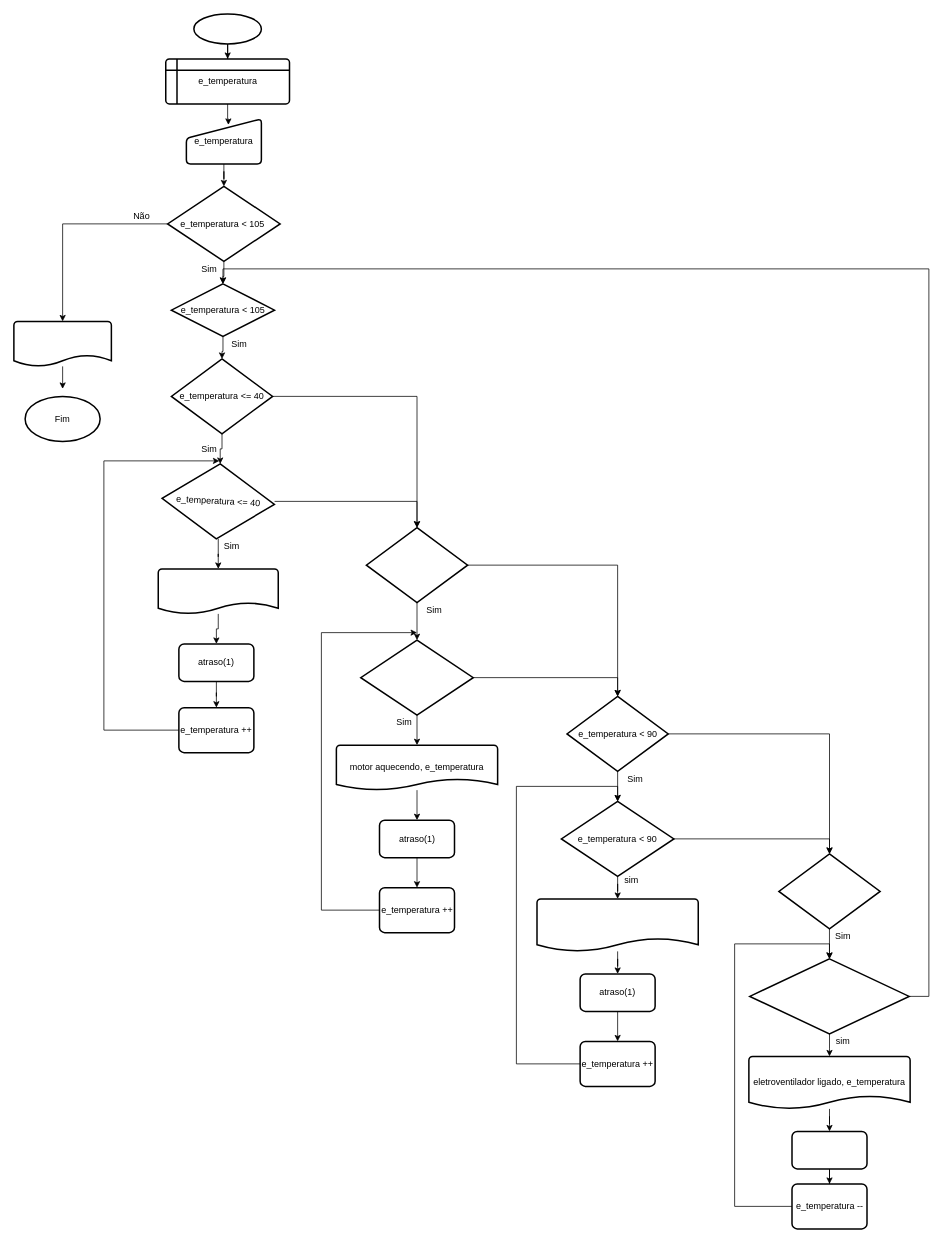
Image size: 948x1242. Some labels were removed from this diagram. Each missing label, with the centre of its shape:
atraso(0.5): point 829,1149
e_temperatura < 70: point 416,564
e_temperatura <70: point 417,677
e_temperatura >=71: point 829,996
e_temperatura >=90: point 829,891
Inicio: point 227,28
motor frio, e_temperatura: point 218,591
motor superaquecido: point 62,343
temperatura ideal trabalho, e_temperatura: point 617,925
